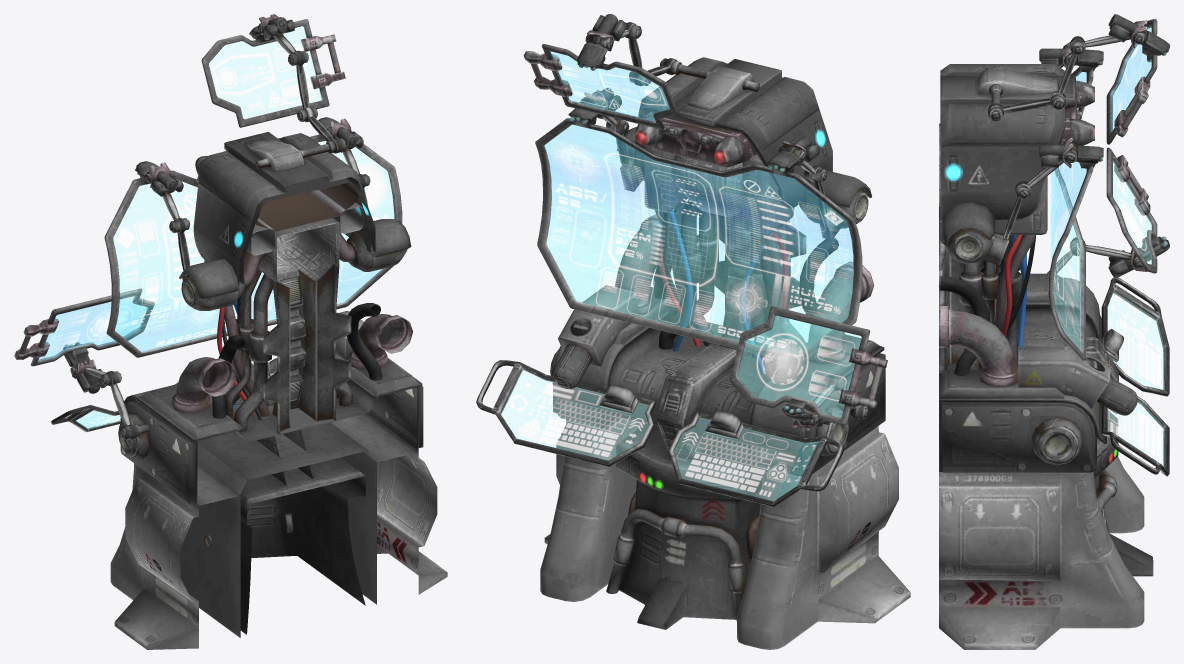
The model's file is hologram_console.glb.
3 views of the same model, side by side, from view 1: azimuth 30°, elevation 25°; view 2: azimuth 150°, elevation 25°; view 3: azimuth 270°, elevation 25° (orthographic). The views are drawn at different scales.
Visible parts, largest first — view 1: Monitor.35_low, Screen04, Monitor.66_low, Monitor.67_low, Monitor.20_low, Monitor.49_low, Monitor.58_low, Monitor.44_low, Monitor.50_low, Monitor.64_low, Monitor.48_low, Monitor.47_low (+15 smaller); view 2: Screen04, Monitor.35_low, Monitor.66_low, Monitor.20_low, Monitor.49_low, Monitor.15_low, Monitor.44_low, Monitor.67_low, Monitor.58_low, Monitor.16_low, Monitor.55_low, Monitor.63_low (+23 smaller); view 3: Monitor.35_low, Monitor.66_low, Monitor.49_low, Screen04, Monitor.15_low, Monitor.01_low, Monitor.58_low, Monitor.44_low, Monitor.11_low, Monitor.56_low, Monitor.20_low, Monitor.45_low (+26 smaller).
Part boxes in pixels (x1,y1,x2,y2): Monitor.35_low: [110, 452, 447, 649]; Screen04: [38, 26, 394, 429]; Monitor.66_low: [120, 353, 423, 505]; Monitor.67_low: [258, 218, 351, 433]; Monitor.20_low: [240, 457, 365, 634]; Monitor.49_low: [193, 132, 375, 285]; Monitor.58_low: [172, 314, 412, 413]; Monitor.44_low: [104, 134, 402, 357]; Monitor.50_low: [196, 172, 359, 231]; Monitor.64_low: [233, 265, 352, 434]; Monitor.48_low: [179, 219, 411, 298]; Monitor.47_low: [181, 233, 407, 310]; Screen04: [500, 52, 861, 500]; Monitor.35_low: [540, 418, 910, 649]; Monitor.66_low: [552, 287, 885, 476]; Monitor.20_low: [616, 424, 762, 629]; Monitor.49_low: [633, 57, 832, 208]; Monitor.15_low: [476, 360, 843, 506]; Monitor.44_low: [535, 118, 862, 364]; Monitor.67_low: [671, 155, 806, 356]; Monitor.58_low: [615, 214, 874, 363]; Monitor.16_low: [655, 344, 743, 460]; Monitor.55_low: [644, 145, 794, 235]; Monitor.63_low: [659, 199, 787, 374]; Monitor.35_low: [939, 457, 1144, 649]; Monitor.66_low: [939, 273, 1106, 472]; Monitor.49_low: [940, 64, 1075, 219]; Screen04: [1050, 27, 1164, 466]; Monitor.15_low: [1101, 277, 1169, 476]; Monitor.01_low: [1018, 346, 1110, 408]; Monitor.58_low: [939, 264, 1020, 387]; Monitor.44_low: [1048, 67, 1093, 360]; Monitor.11_low: [988, 26, 1147, 121]; Monitor.56_low: [1031, 417, 1082, 465]; Monitor.20_low: [1093, 410, 1153, 576]; Monitor.45_low: [978, 67, 1057, 94].
Bounding box in the file's own units: 2.1 × 2.98 × 1.07.
Materials: 2 (2 with a texture image).
